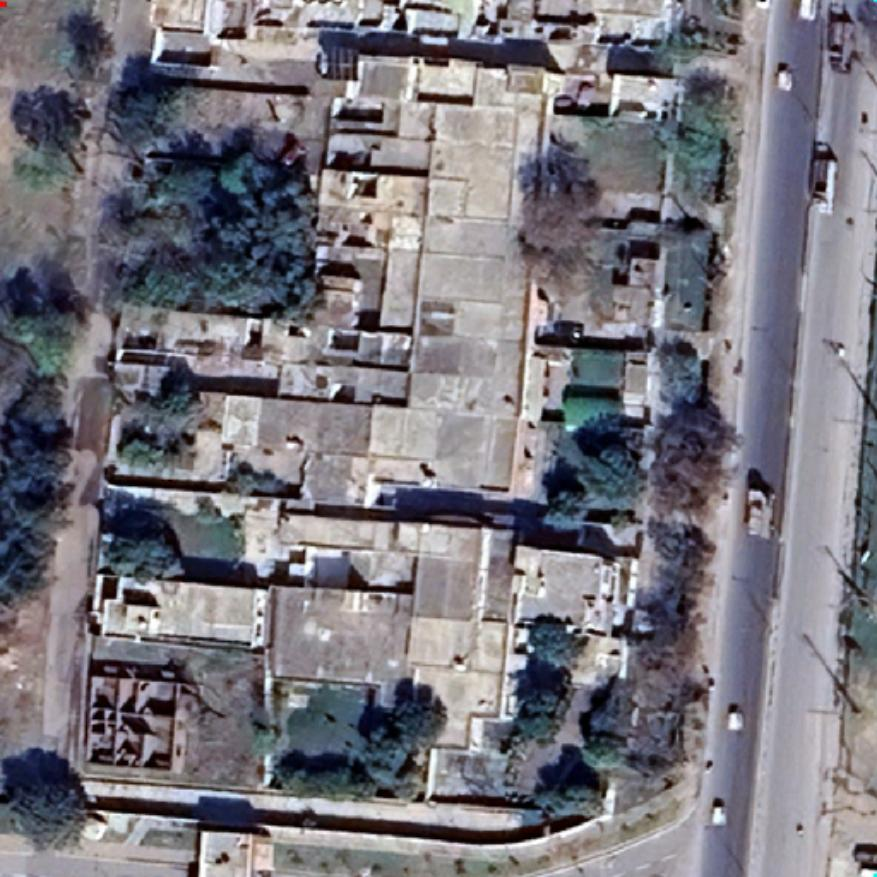Solarpanel: (316, 41, 364, 86)
